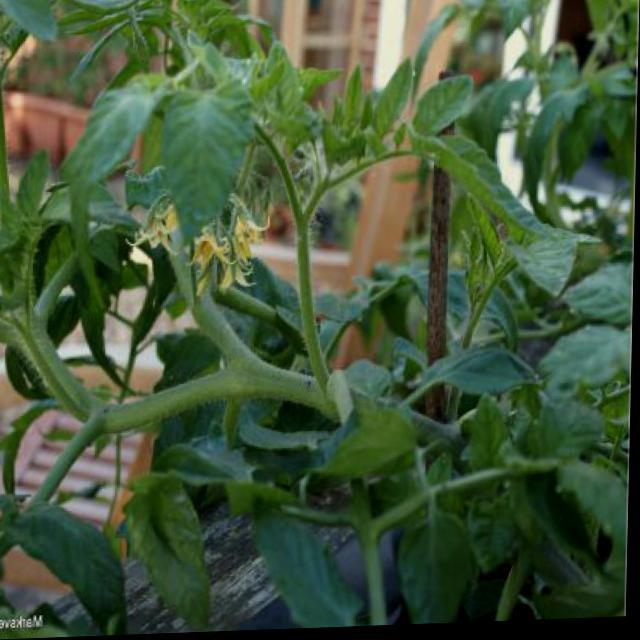Tomato bacterial spot leaf: (388, 122, 578, 264), (13, 497, 145, 638), (156, 77, 250, 260), (49, 68, 154, 231), (121, 451, 212, 635), (250, 490, 372, 624), (297, 406, 434, 486), (429, 340, 544, 400), (403, 76, 482, 148), (377, 55, 427, 150)
